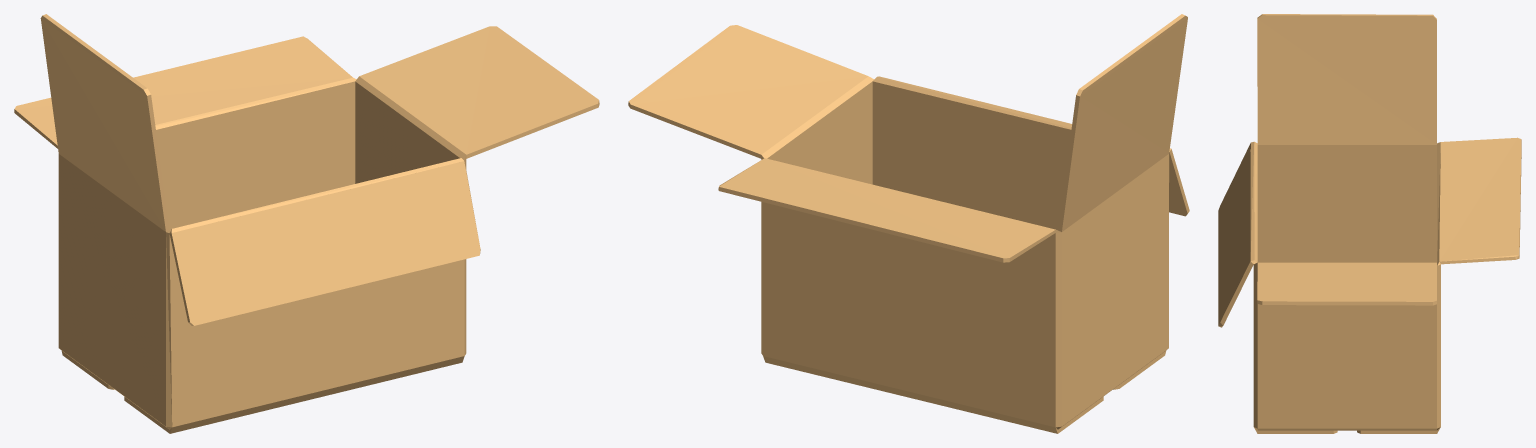
3 renders of one model, left to right at view 1: azimuth 30°, elevation 25°; view 2: azimuth 150°, elevation 25°; view 3: azimuth 270°, elevation 25°, orthographic. The views are drawn at different scales.
Parts seen in each view (by area): view 1: group_1230499291; view 2: group_1230499291; view 3: group_1230499291.
Part boxes in pixels (bbox=[...]): group_1230499291: bbox=[14, 14, 599, 433]; group_1230499291: bbox=[628, 14, 1189, 433]; group_1230499291: bbox=[1218, 14, 1521, 433].
Bounding box in the file's own units: 115 × 84.19 × 79.49.
